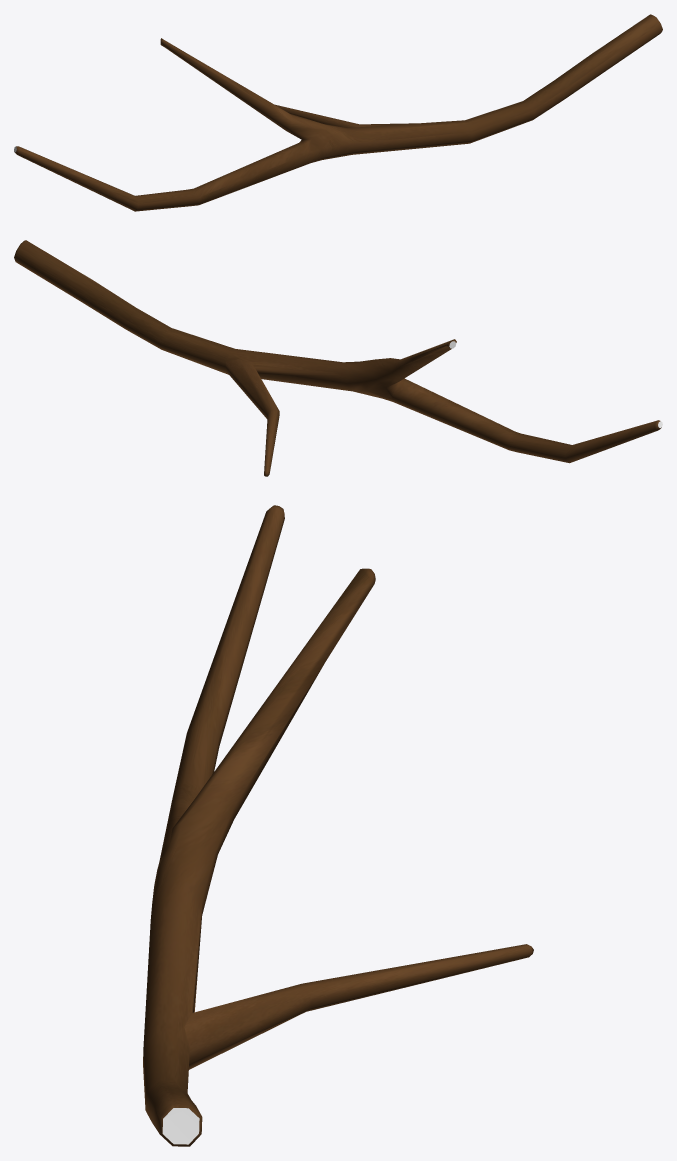
The model's file is Branch_2.glb.
3 views of the same model, one above another, from view 1: azimuth 30°, elevation 25°; view 2: azimuth 150°, elevation 25°; view 3: azimuth 270°, elevation 25° (orthographic). The views are drawn at different scales.
Visible parts, largest first — view 1: Cube.081; view 2: Cube.081; view 3: Cube.081.
Part boxes in pixels (x1,y1,x2,y2): Cube.081: (14, 14, 662, 211); Cube.081: (14, 240, 662, 476); Cube.081: (143, 505, 533, 1146).
Size of the model in its own units: 2.44 by 0.4944 by 0.6651.
Materials: 2 (1 with a texture image).
